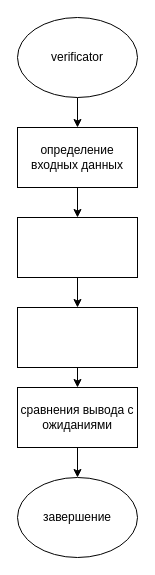
Some shapes in this 155 by 575 pixel diagram are drawn without their labels. The shapes that lost their labels are listed below. From the top down, each one's centre as x and y in pixels, then its label:
At pixel 77 247: "определение ожидаемого вывода".
At pixel 77 337: "выполнение".
